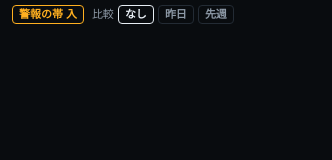
Test: GraphViewControls（見出しの切り替え） › 警報の帯は既定で入。押すと切になり、端末に保存される。もう一度押すと入に戻る
Step 1. Click the button with aria-label "警報の帯を表示する" → (48, 14), box x1=12 y1=5 x2=84 y2=24
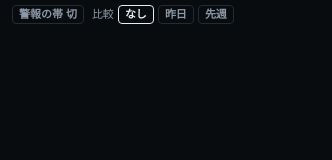
Now the button with aria-label "警報の帯を表示する" is not pressed
Step 2. Click the button with aria-label "警報の帯を表示する" → (48, 14), box x1=12 y1=5 x2=84 y2=24
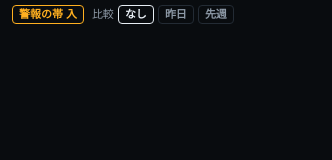
Now the button with aria-label "警報の帯を表示する" is pressed, box x1=12 y1=5 x2=84 y2=24
